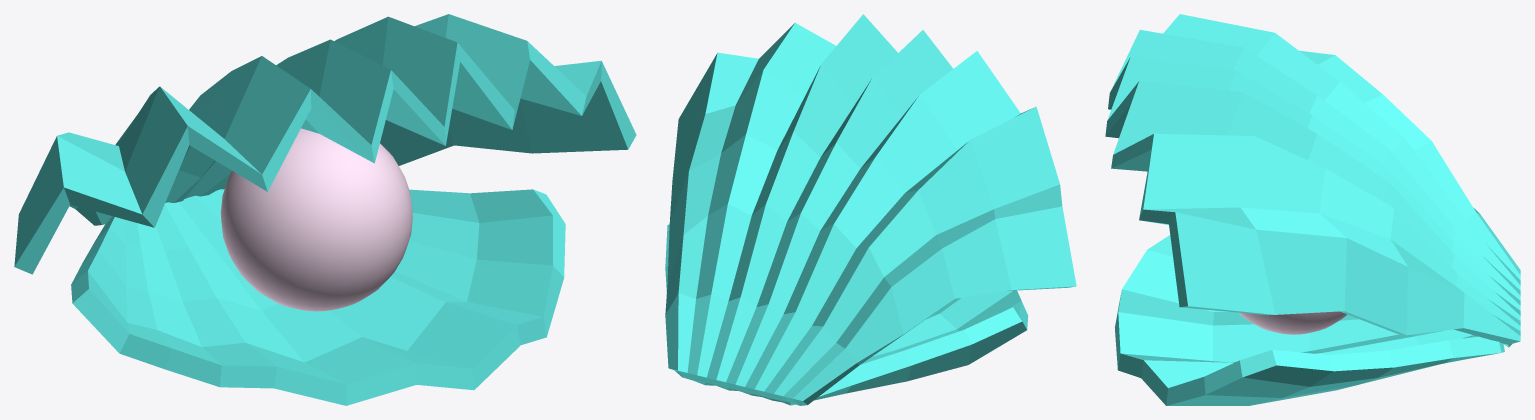
The picture shows the model from 3 angles, left to right: view 1: azimuth 30°, elevation 25°; view 2: azimuth 150°, elevation 25°; view 3: azimuth 270°, elevation 25°; orthographic projection. The views are drawn at different scales.
Visible parts, largest first — view 1: 貝(下), 貝(上), 真珠; view 2: 貝(上), 貝(下); view 3: 貝(上), 貝(下), 真珠.
Part boxes in pixels (x1=…): 貝(下): x1=71, y1=189, x2=565, y2=405; 貝(上): x1=14, y1=14, x2=636, y2=274; 真珠: x1=220, y1=128, x2=412, y2=311; 貝(上): x1=665, y1=14, x2=1076, y2=405; 貝(下): x1=665, y1=224, x2=1028, y2=405; 貝(上): x1=1105, y1=14, x2=1520, y2=347; 貝(下): x1=1115, y1=235, x2=1504, y2=405; 真珠: x1=1238, y1=311, x2=1347, y2=334.
Size of the model in its own units: 322 by 195 by 241.
